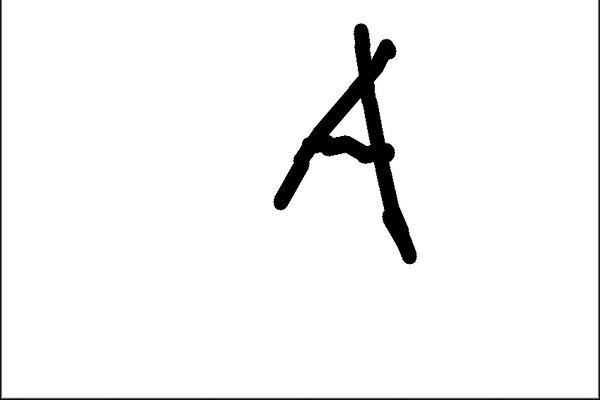A: (258, 23, 427, 228)
